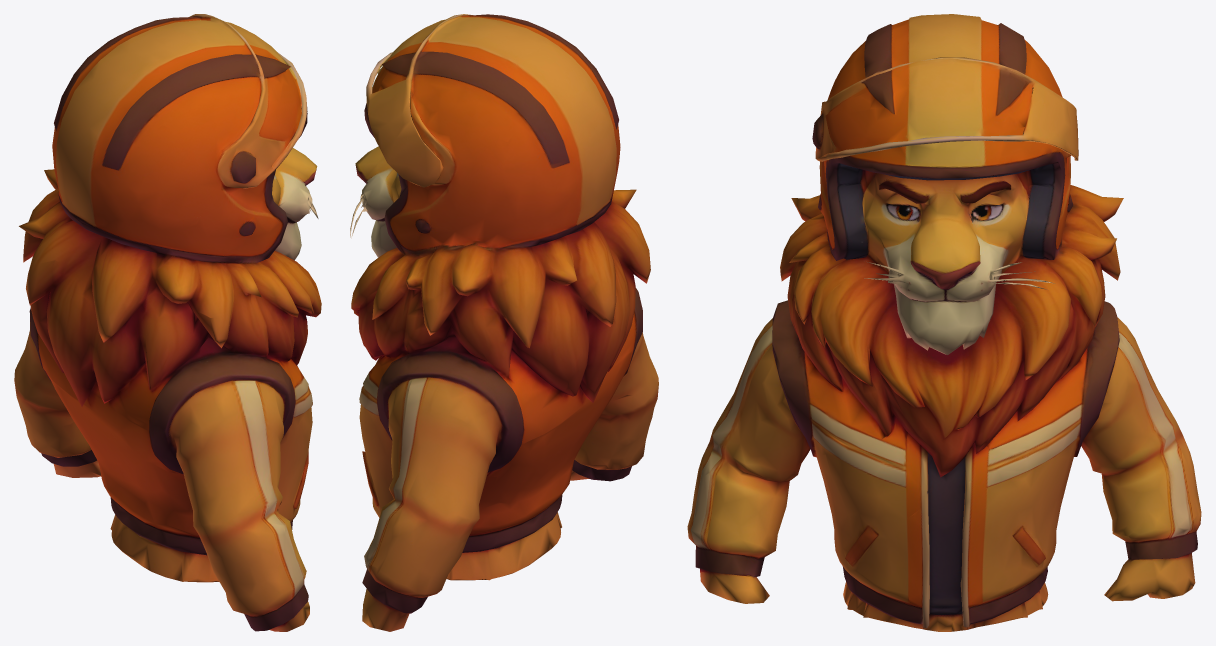
File: leo.glb
3 views of the same model, side by side, from view 1: azimuth 30°, elevation 25°; view 2: azimuth 150°, elevation 25°; view 3: azimuth 270°, elevation 25° (orthographic). The views are drawn at different scales.
Visible parts, largest first — view 1: tripo_node_c2db7ce5-be1c-4b7b-819e-dd6a5adf6a42; view 2: tripo_node_c2db7ce5-be1c-4b7b-819e-dd6a5adf6a42; view 3: tripo_node_c2db7ce5-be1c-4b7b-819e-dd6a5adf6a42.
Part boxes in pixels (box(x1,y1,x2,y2)): tripo_node_c2db7ce5-be1c-4b7b-819e-dd6a5adf6a42: box(14, 14, 321, 631); tripo_node_c2db7ce5-be1c-4b7b-819e-dd6a5adf6a42: box(350, 14, 658, 631); tripo_node_c2db7ce5-be1c-4b7b-819e-dd6a5adf6a42: box(687, 14, 1201, 631).
Size of the model in its own units: 0.5452 by 1 by 0.8359.
1 material, 1 textured.
